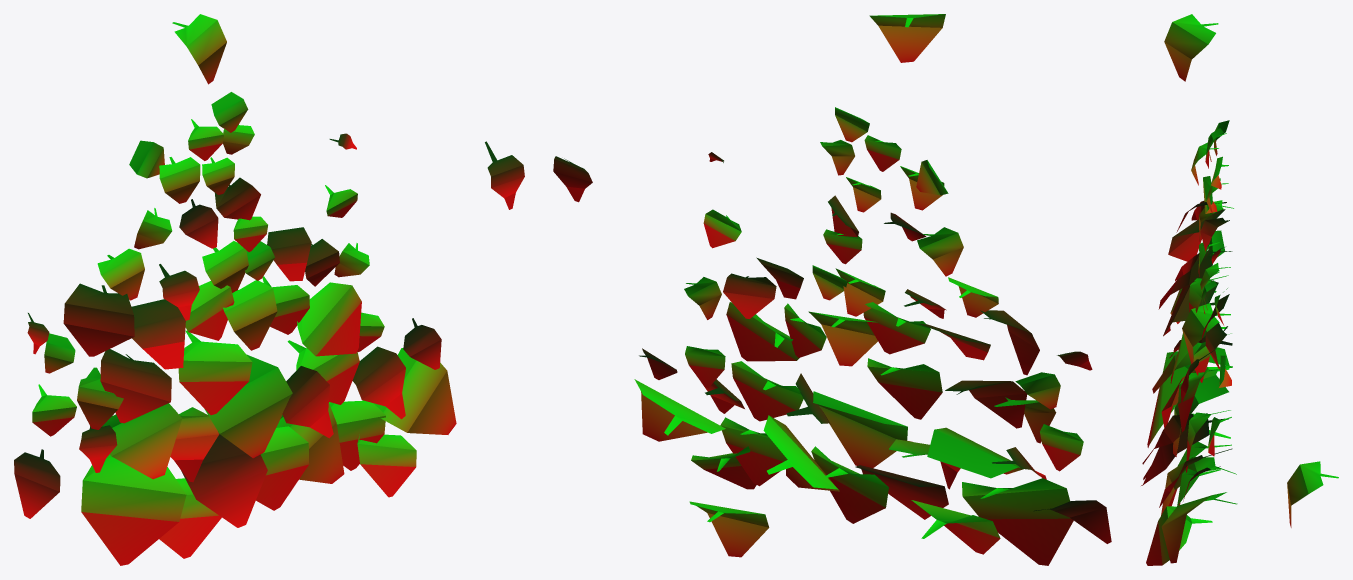
Rendered from Lierre8_LOD0.fbx.
The picture shows the model from 3 angles, left to right: view 1: azimuth 30°, elevation 25°; view 2: azimuth 150°, elevation 25°; view 3: azimuth 270°, elevation 25°; orthographic projection. The views are drawn at different scales.
Visible parts, largest first — view 1: _c125_Var7_LOD1; view 2: _c125_Var7_LOD1; view 3: _c125_Var7_LOD1.
Boxes of the visible parts, box(x1,y1,x2,y2) form: _c125_Var7_LOD1: box(14, 14, 524, 565); _c125_Var7_LOD1: box(553, 14, 1111, 565); _c125_Var7_LOD1: box(1141, 14, 1338, 565).
Bounding box in the file's own units: 41.6 × 39.62 × 15.14.
